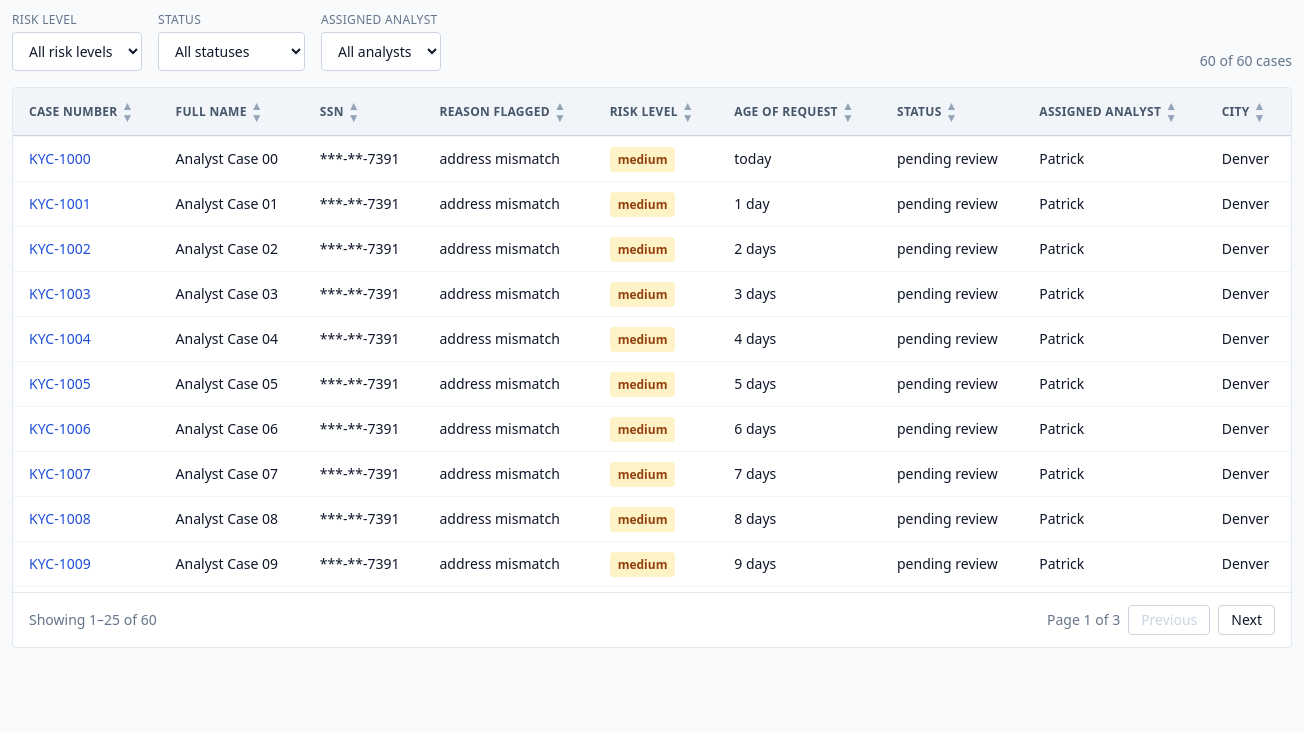
it: CaseQueue pagination › pages forward and back through the queue
Check: the button "Previous" is disabled, box [1128,605,1210,635]
Click the button "Next".
click(1247, 620)  # box [1218,605,1275,635]
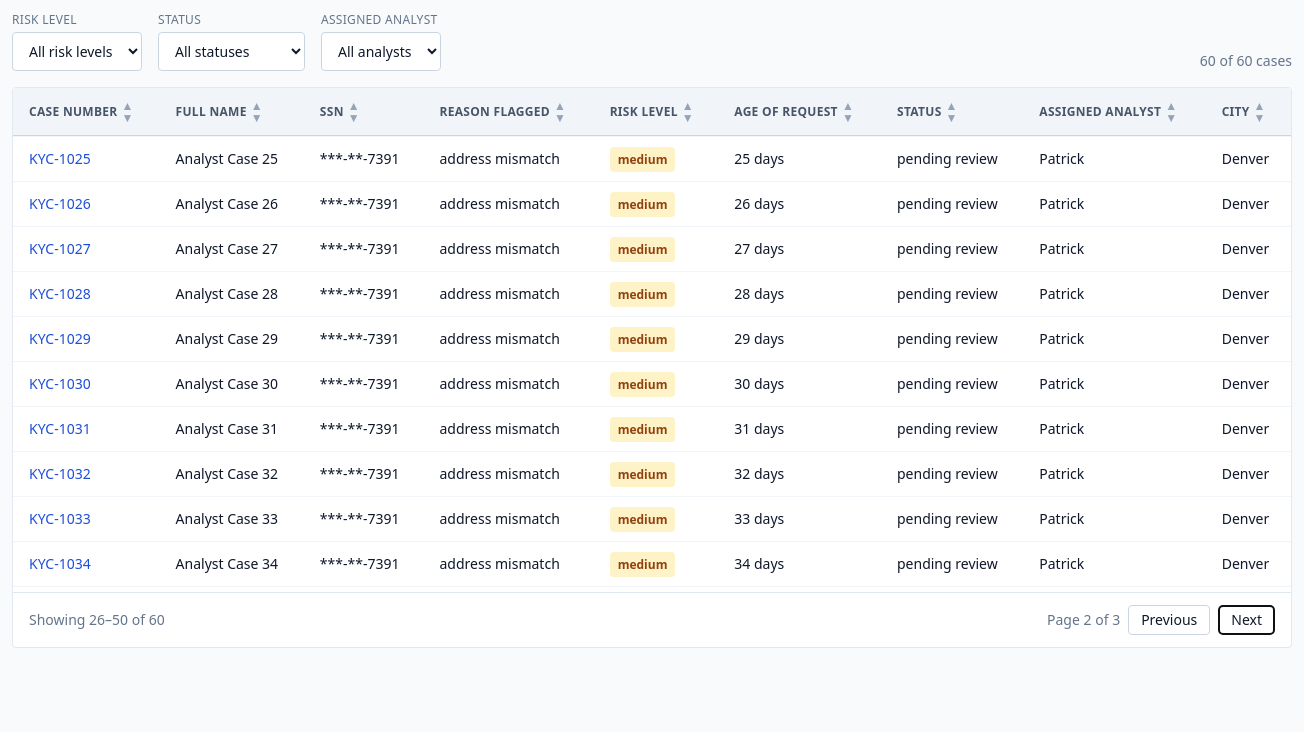
Check: the link "KYC-1025" is shown, box [29,149,91,168]
Check: the text with test id "page-range" reads "Showing 26–50 of 60", box [29,610,165,629]
Click the button "Next".
click(1247, 620)  # box [1218,605,1275,635]
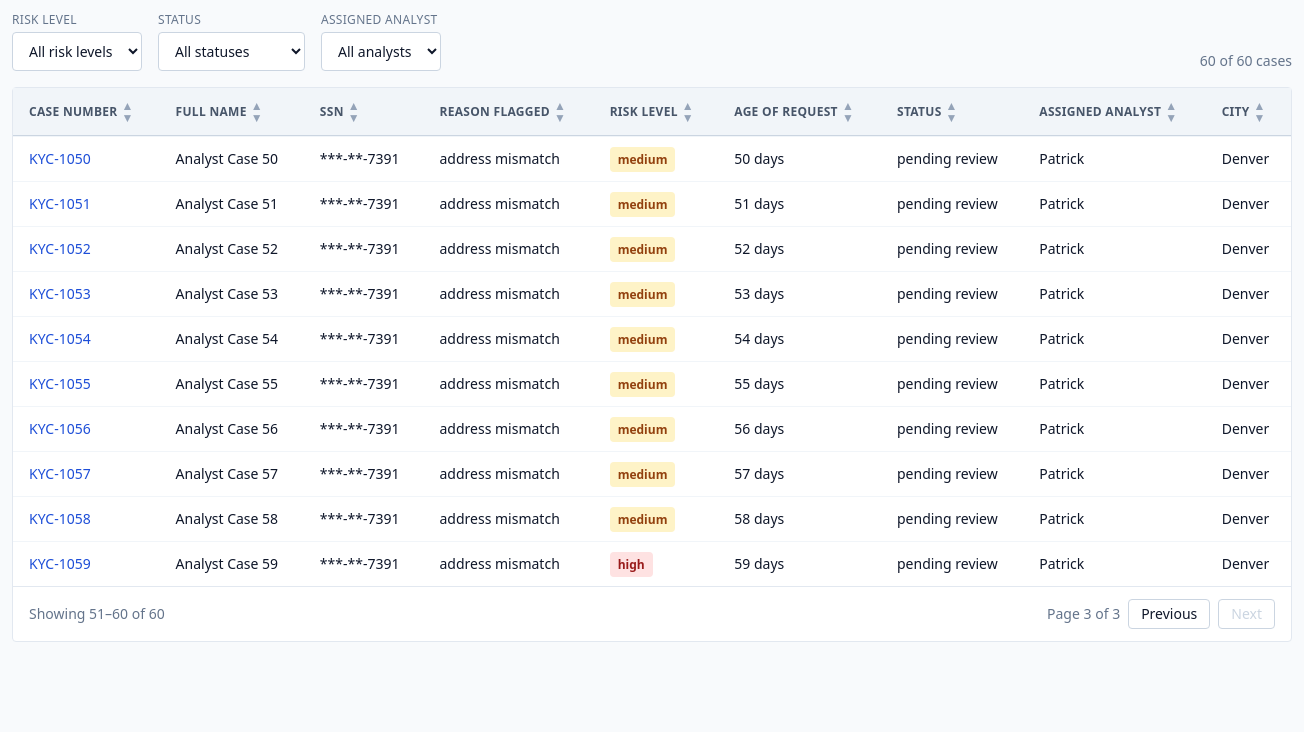
Check: the text with test id "page-range" reads "Showing 51–60 of 60", box [29,604,165,623]
Check: the button "Next" is disabled, box [1218,599,1275,629]
Click the button "Previous".
click(1169, 614)  # box [1128,599,1210,629]
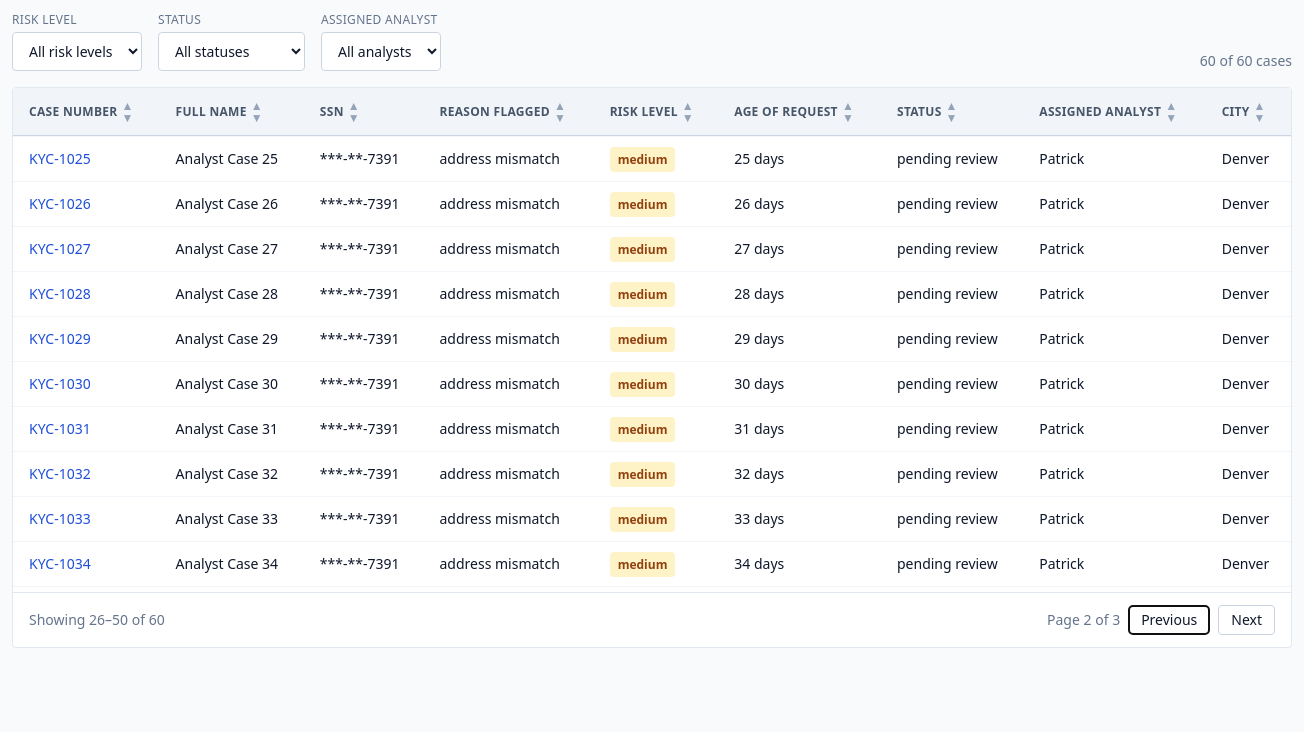
Check: the link "KYC-1025" is shown, box [29,149,91,168]
